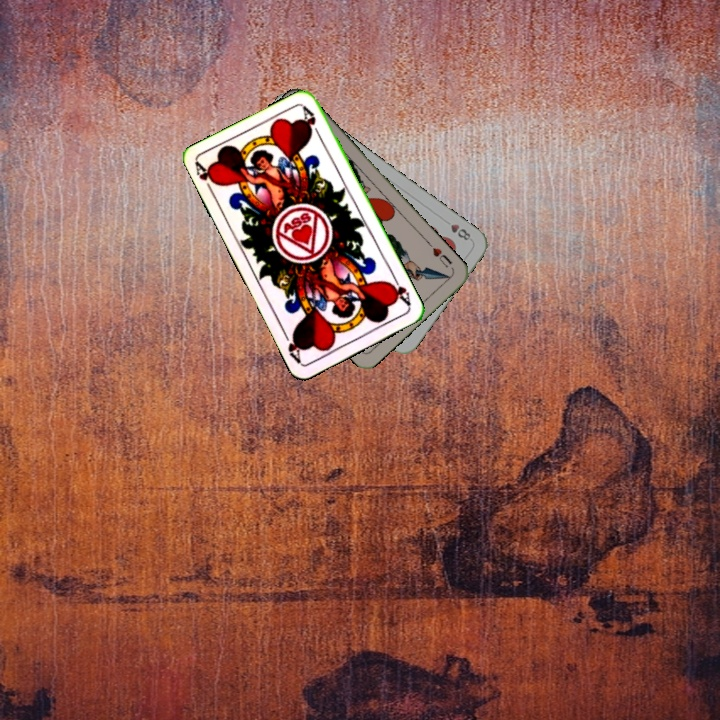H8: (439, 215, 473, 243)
HA: (191, 158, 222, 197), (384, 271, 414, 309)
HU: (424, 239, 455, 270)
